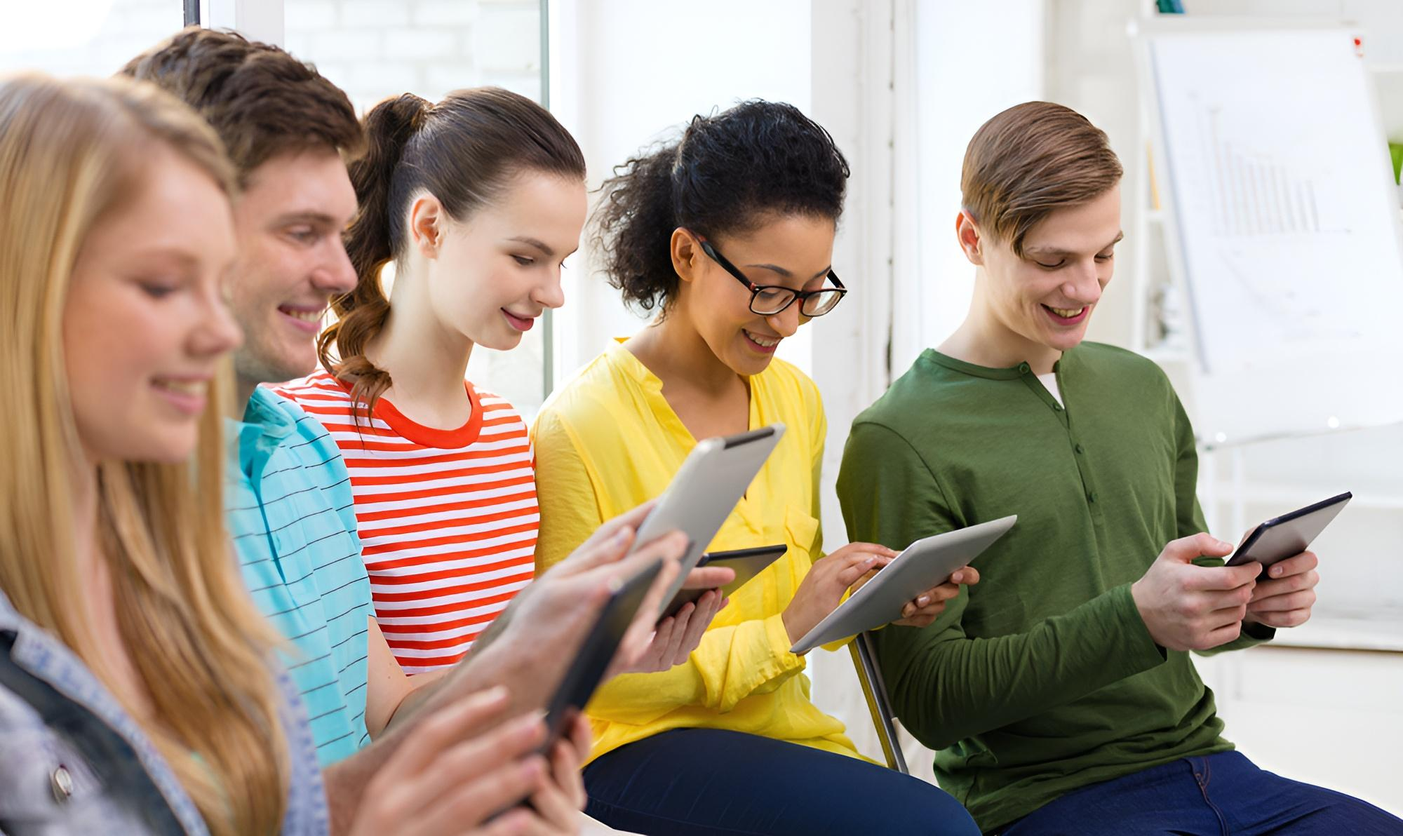phone: (0, 73, 656, 836), (147, 29, 774, 771), (857, 105, 1351, 743), (534, 98, 1015, 719), (350, 86, 783, 678)
